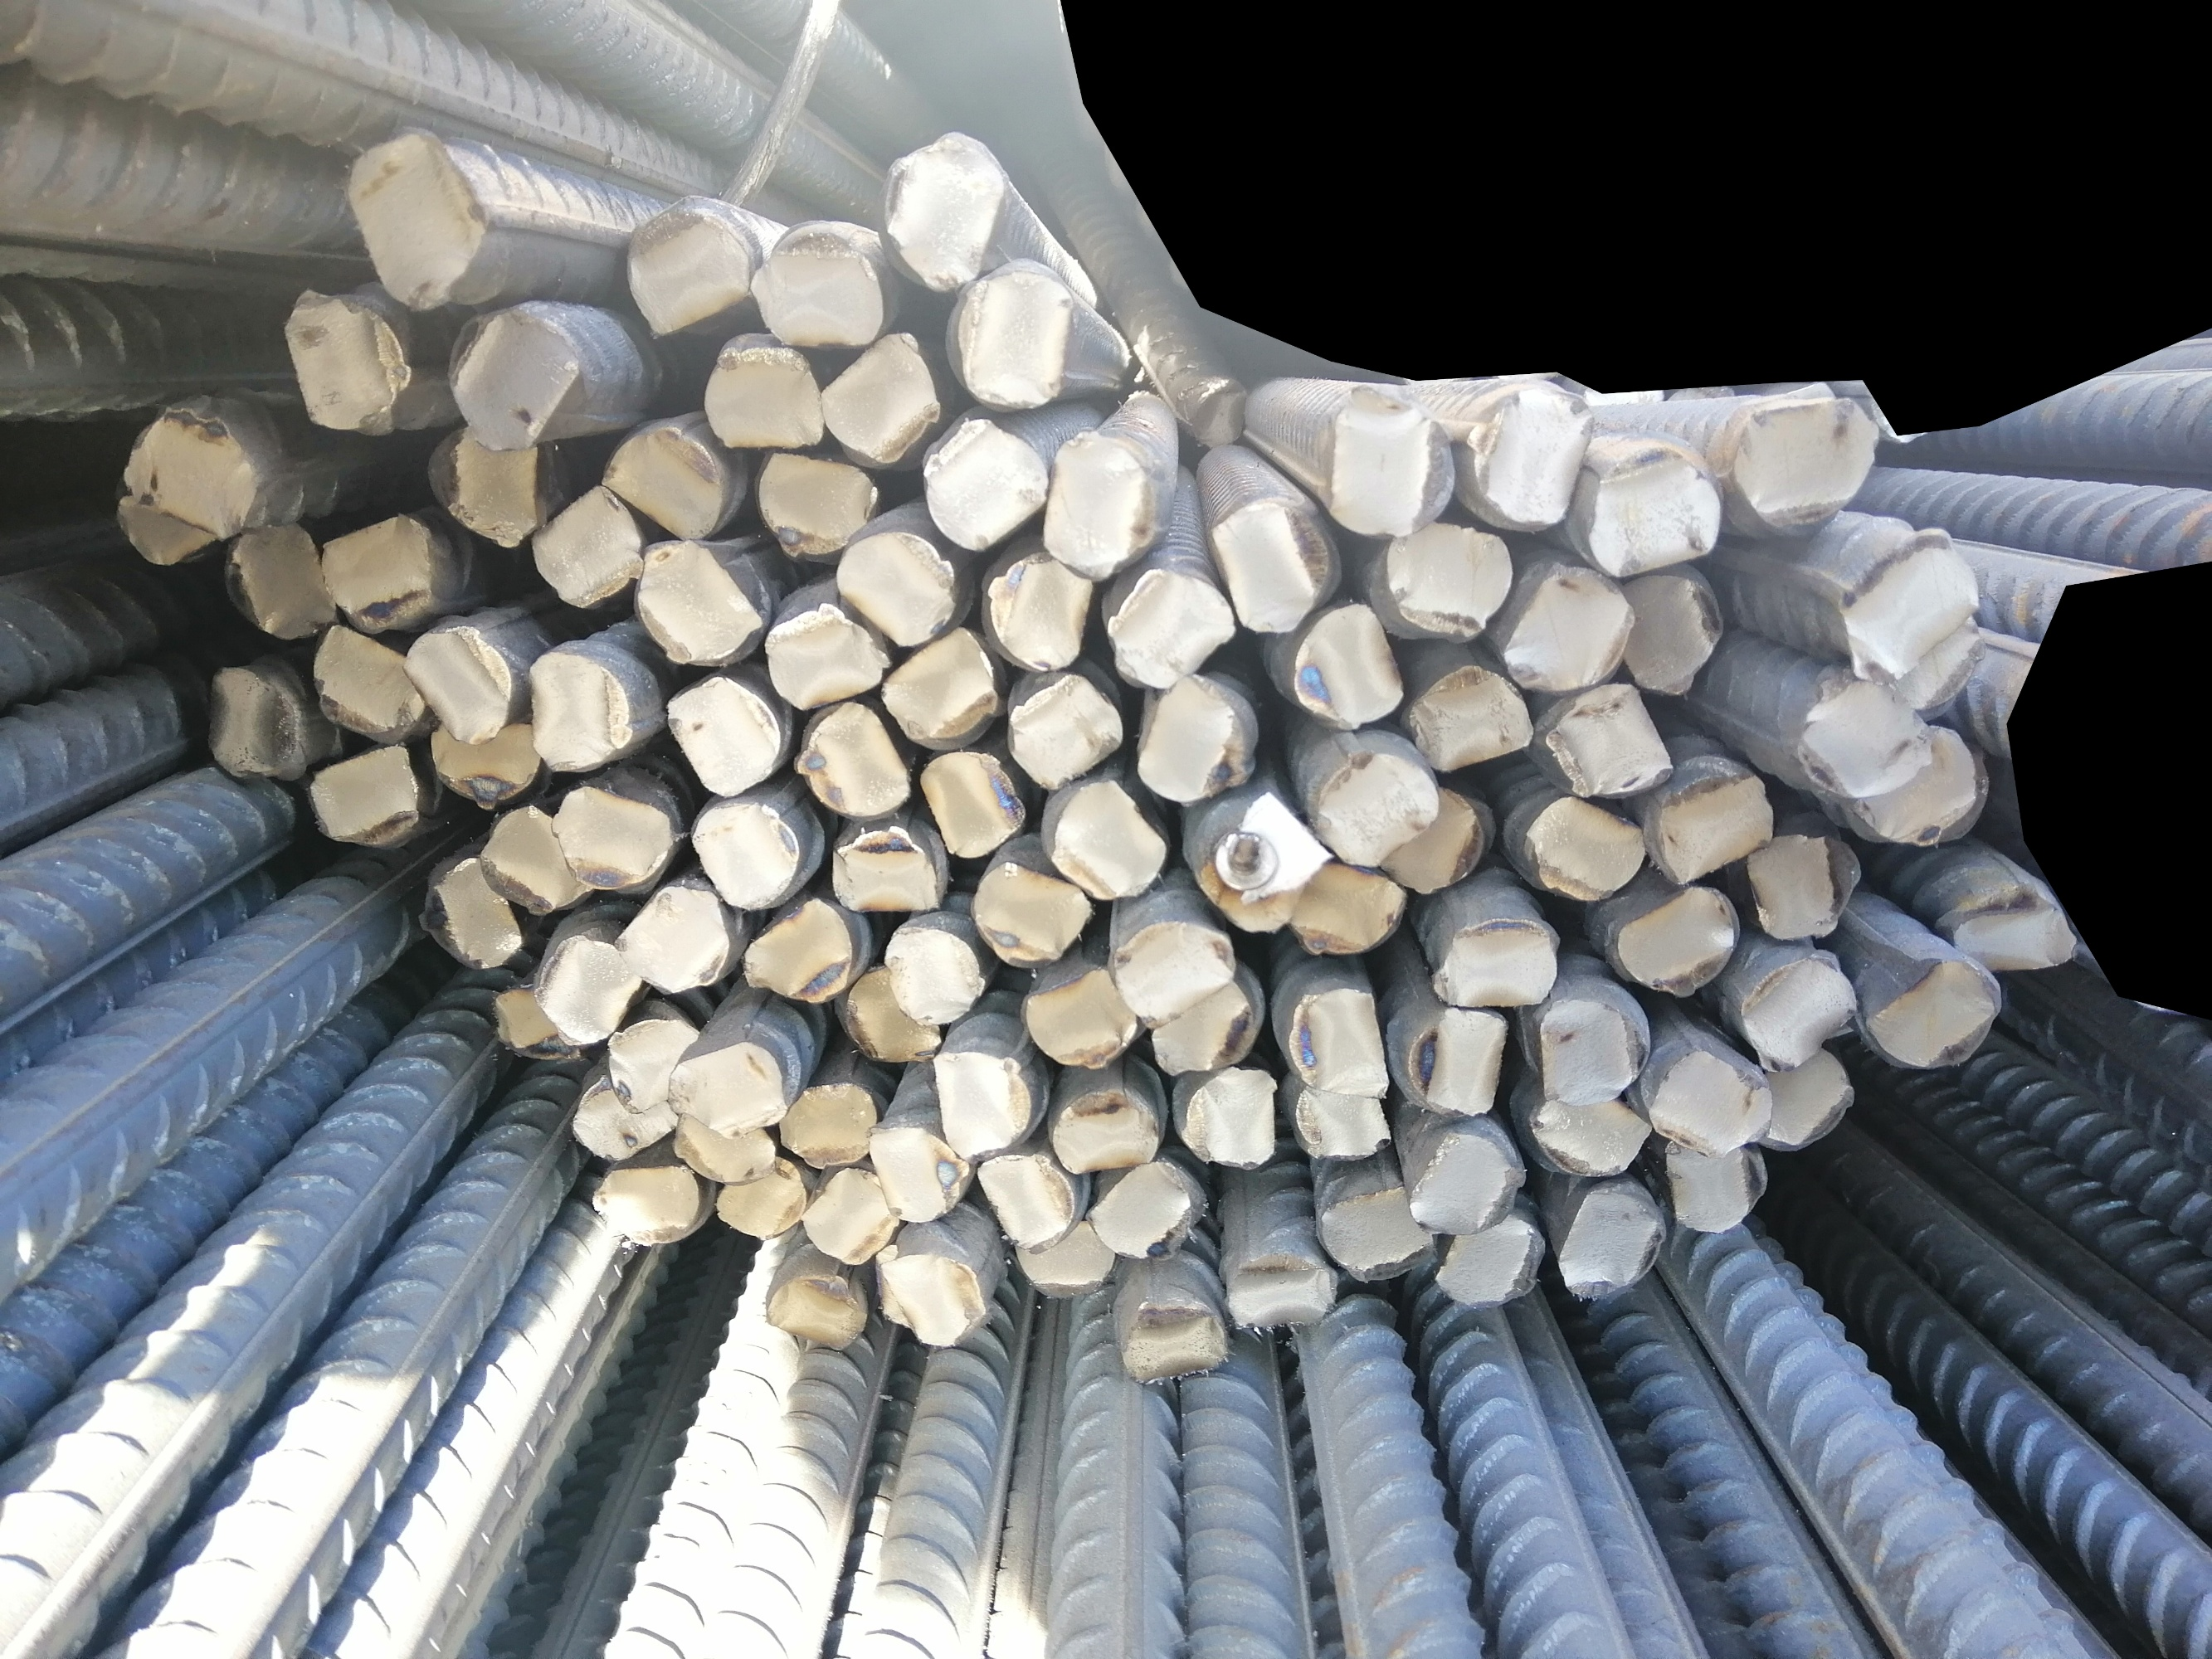rebar: (342, 127, 492, 317), (112, 397, 258, 570), (1829, 525, 1978, 688), (1724, 392, 1884, 538), (1307, 383, 1457, 535), (940, 251, 1075, 415), (277, 282, 418, 434), (448, 300, 586, 455), (882, 127, 1011, 293), (1578, 441, 1726, 580), (614, 199, 758, 338), (1461, 380, 1593, 532), (1204, 490, 1337, 640), (1497, 559, 1637, 694), (626, 537, 769, 667), (814, 324, 945, 467), (1794, 667, 1935, 798), (1039, 422, 1152, 580), (920, 415, 1051, 549), (594, 418, 730, 547), (1135, 674, 1264, 807), (1307, 742, 1440, 871), (1860, 955, 2005, 1072), (1042, 772, 1171, 903), (1105, 565, 1236, 692), (1860, 723, 1987, 854), (1377, 518, 1515, 638), (746, 237, 889, 352), (1649, 762, 1774, 892), (828, 526, 960, 650), (1185, 805, 1307, 938), (1537, 681, 1673, 800), (1616, 563, 1734, 699), (875, 622, 1002, 746), (664, 667, 784, 798), (1515, 791, 1647, 910), (1607, 884, 1740, 1002), (1004, 666, 1131, 788), (519, 647, 638, 777), (791, 697, 913, 821), (303, 624, 429, 744), (1286, 605, 1407, 730), (429, 420, 547, 547), (1105, 918, 1239, 1030), (218, 521, 340, 643), (760, 598, 891, 711), (296, 739, 429, 850), (472, 798, 594, 918), (1743, 828, 1869, 945), (980, 549, 1095, 676), (1407, 666, 1537, 777), (969, 854, 1093, 971), (1388, 1002, 1511, 1119), (751, 450, 879, 563), (1644, 1049, 1776, 1157), (1740, 950, 1858, 1070), (401, 622, 516, 746), (1081, 1157, 1213, 1263), (528, 483, 640, 608), (532, 924, 643, 1049), (737, 894, 863, 1006), (547, 781, 676, 889), (614, 877, 730, 995), (321, 511, 434, 633), (1557, 1182, 1666, 1307), (1944, 880, 2085, 978), (699, 343, 826, 451), (692, 798, 807, 915), (415, 847, 523, 971), (1428, 917, 1565, 1012), (917, 749, 1032, 863), (1281, 985, 1393, 1101), (1279, 856, 1405, 958), (1023, 962, 1140, 1072), (1891, 605, 2001, 721), (1529, 999, 1647, 1107), (1407, 1131, 1523, 1239), (197, 657, 303, 775), (1435, 1202, 1548, 1312), (1523, 1089, 1656, 1182), (1320, 1183, 1436, 1288), (880, 1244, 988, 1356), (1382, 784, 1487, 899), (662, 1039, 784, 1136), (1168, 1063, 1281, 1168), (861, 1117, 967, 1227), (826, 823, 950, 917), (1145, 979, 1262, 1079), (425, 714, 544, 812), (974, 1148, 1079, 1258), (927, 1044, 1030, 1155), (1754, 1042, 1856, 1154), (1051, 1084, 1170, 1180), (882, 918, 985, 1028), (1659, 1131, 1771, 1232), (1110, 1297, 1232, 1389), (582, 1157, 702, 1248), (804, 1162, 903, 1267), (1225, 1249, 1340, 1338), (837, 965, 941, 1063), (481, 976, 587, 1072), (605, 1011, 702, 1114), (758, 1269, 868, 1356), (567, 1077, 678, 1162), (774, 1079, 879, 1169), (1286, 1084, 1398, 1168), (1016, 1215, 1116, 1304), (671, 1107, 776, 1187), (715, 1154, 805, 1241), (1178, 369, 1255, 453)
